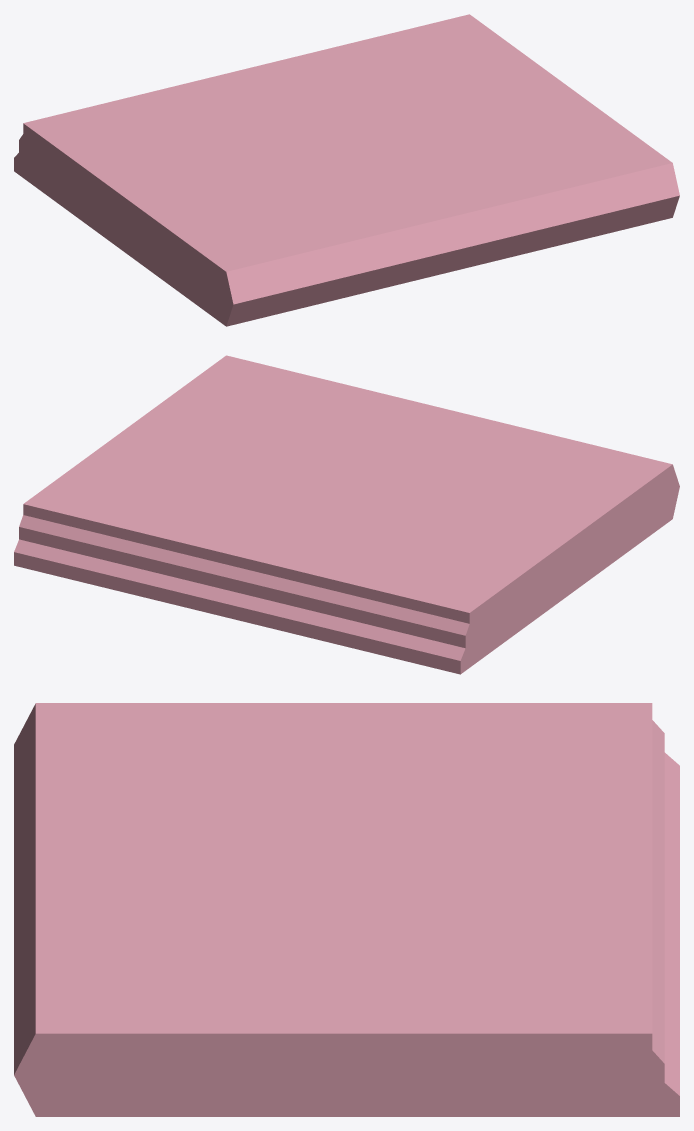
Rendered from Newspaper.fbx.
The picture shows the model from 3 angles, top to bottom: view 1: azimuth 30°, elevation 25°; view 2: azimuth 150°, elevation 25°; view 3: azimuth 270°, elevation 25°; orthographic projection. The views are drawn at different scales.
Parts seen in each view (by area): view 1: Newspaper; view 2: Newspaper; view 3: Newspaper.
Boxes of the visible parts, bbox=[...] form: Newspaper: bbox=[14, 14, 679, 326]; Newspaper: bbox=[14, 355, 679, 674]; Newspaper: bbox=[14, 703, 679, 1116].
Bounding box in the file's own units: 45.66 × 5.36 × 38.87.
